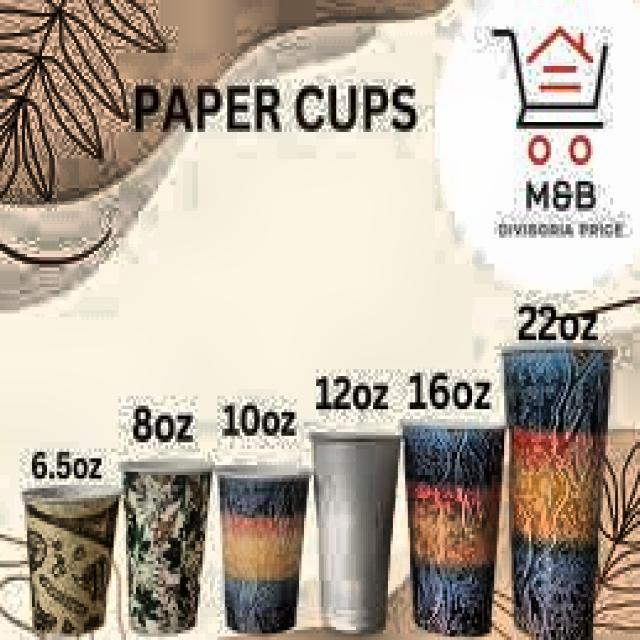Cup: (498, 343, 610, 640), (401, 415, 509, 639), (307, 423, 403, 640), (121, 450, 216, 640), (16, 479, 116, 640), (218, 462, 308, 640)
